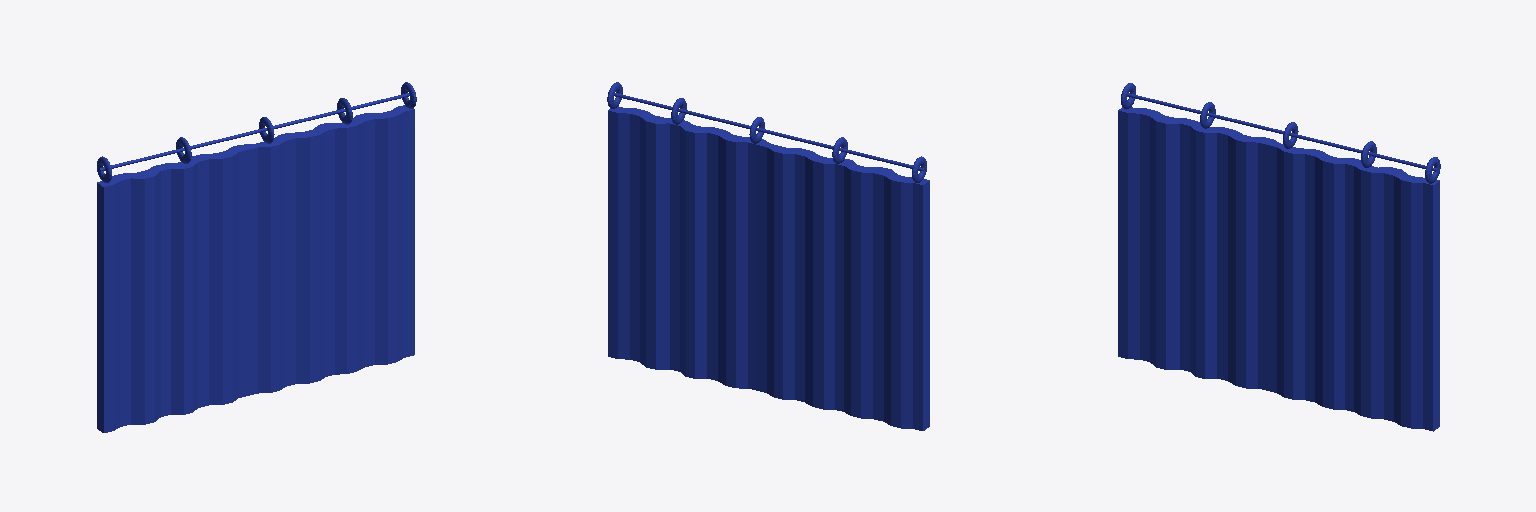
The picture shows the model from 3 angles: view 1: azimuth 30°, elevation 25°; view 2: azimuth 150°, elevation 25°; view 3: azimuth 330°, elevation 25°; orthographic projection.
Parts seen in each view (by area): view 1: pasted__pasted__pasted__pasted__pasted__pasted__pasted__pasted__; view 2: pasted__pasted__pasted__pasted__pasted__pasted__pasted__pasted__; view 3: pasted__pasted__pasted__pasted__pasted__pasted__pasted__pasted__.
Boxes of the visible parts, x1=… form: pasted__pasted__pasted__pasted__pasted__pasted__pasted__pasted__: x1=97, y1=82, x2=416, y2=432; pasted__pasted__pasted__pasted__pasted__pasted__pasted__pasted__: x1=607, y1=82, x2=929, y2=430; pasted__pasted__pasted__pasted__pasted__pasted__pasted__pasted__: x1=1118, y1=83, x2=1440, y2=431.
Size of the model in its own units: 2.01 by 1.65 by 0.1529.
1 materials, 1 textured.